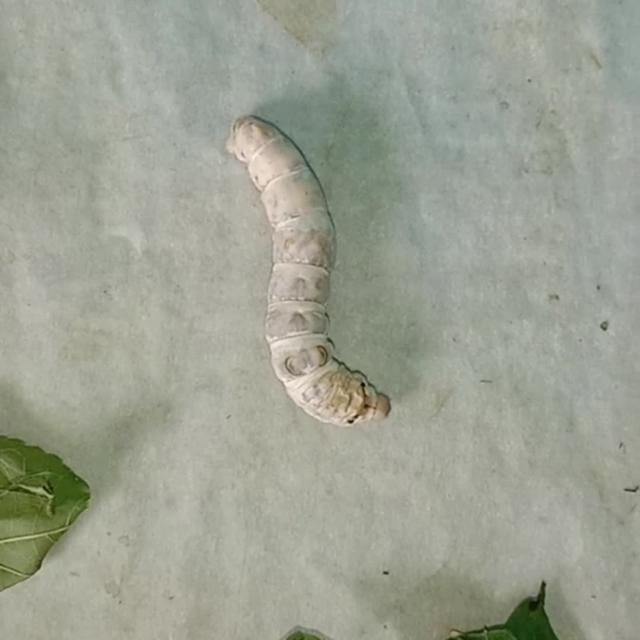Grasserie: (216, 107, 411, 442)
